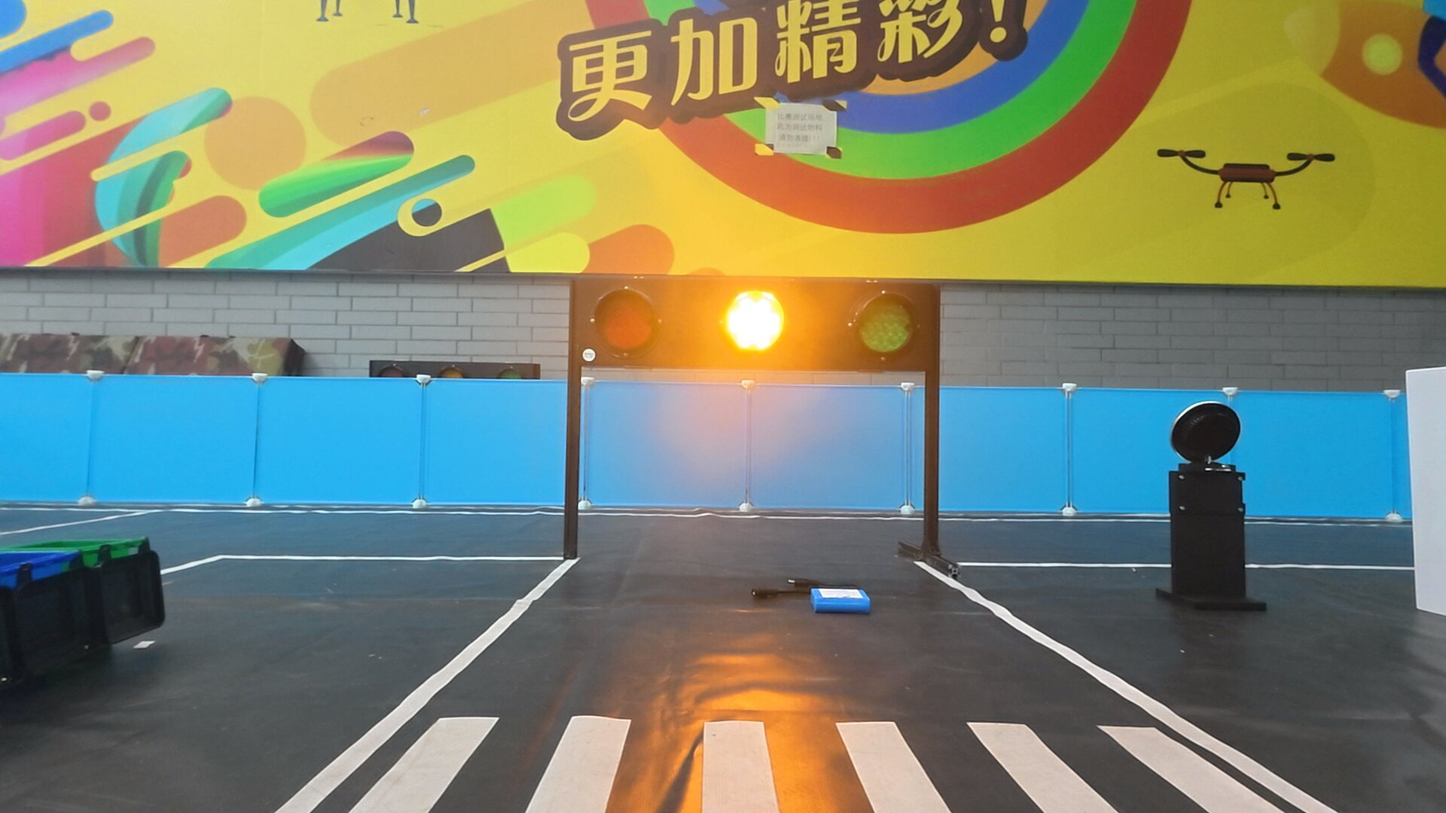stop: (722, 288, 789, 354)
